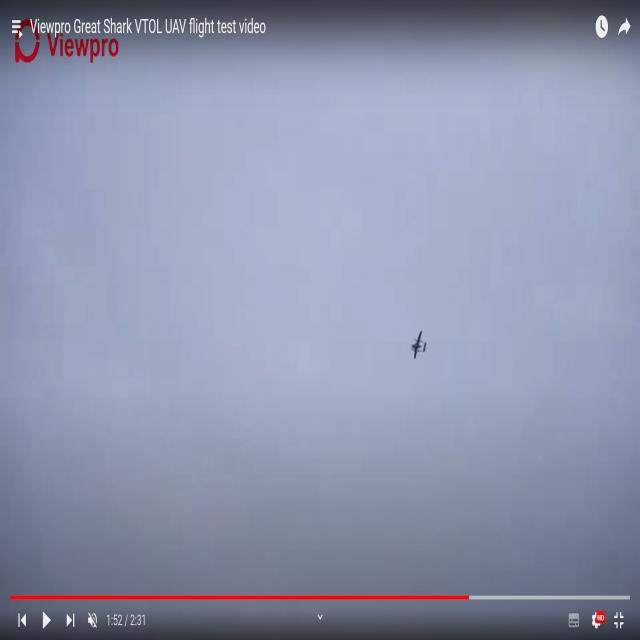iha: (411, 328, 427, 359)
